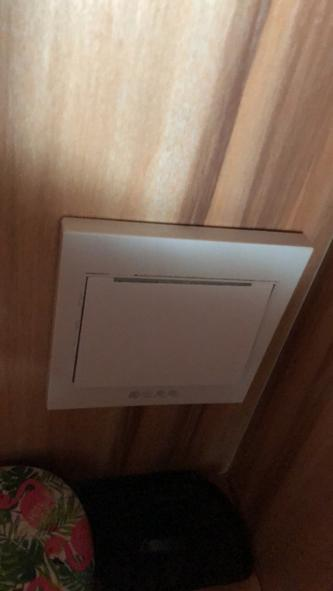switch: (83, 269, 266, 399)
